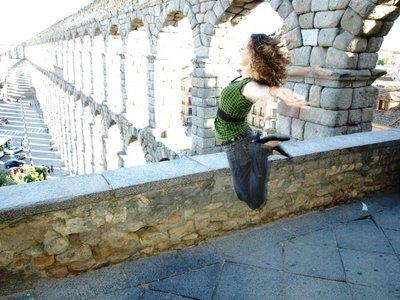person: (221, 31, 307, 211)
